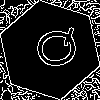Q: (25, 25, 82, 73)
